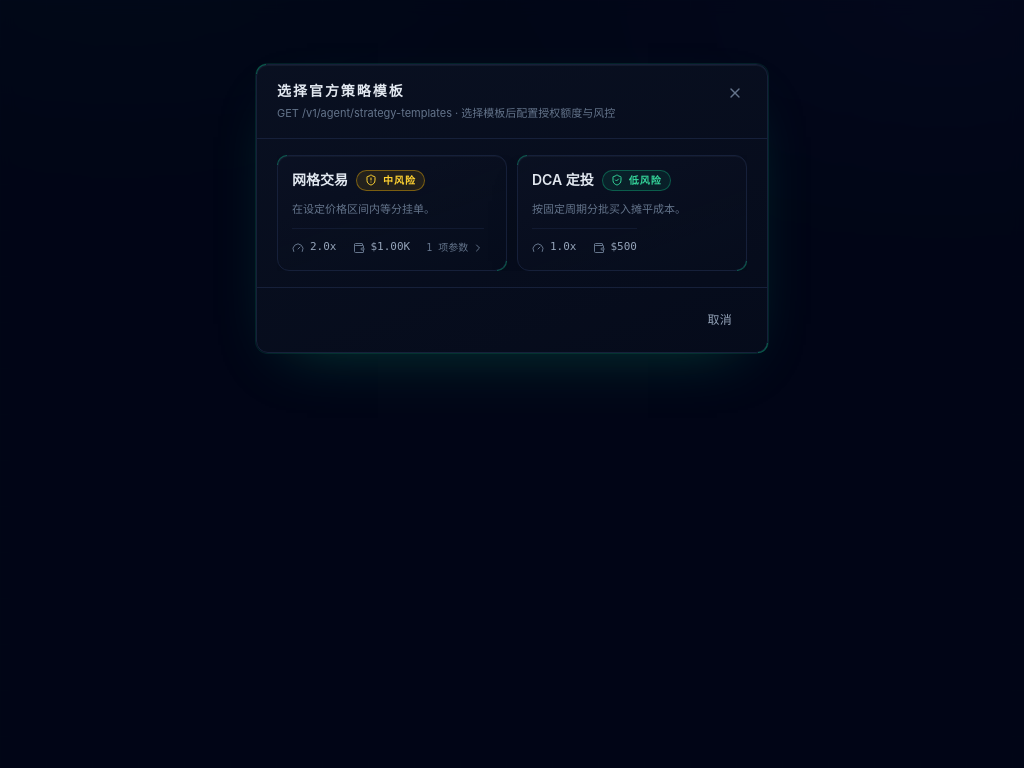
Test: LaunchTemplateModal 模板选择 › 可从配置表单返回重新选择
Click the button "网格交易 中风险 在设定价格区间内等分挂单。 2.0x $1.00K 1 项参数": (392, 213) [277,154,507,271]
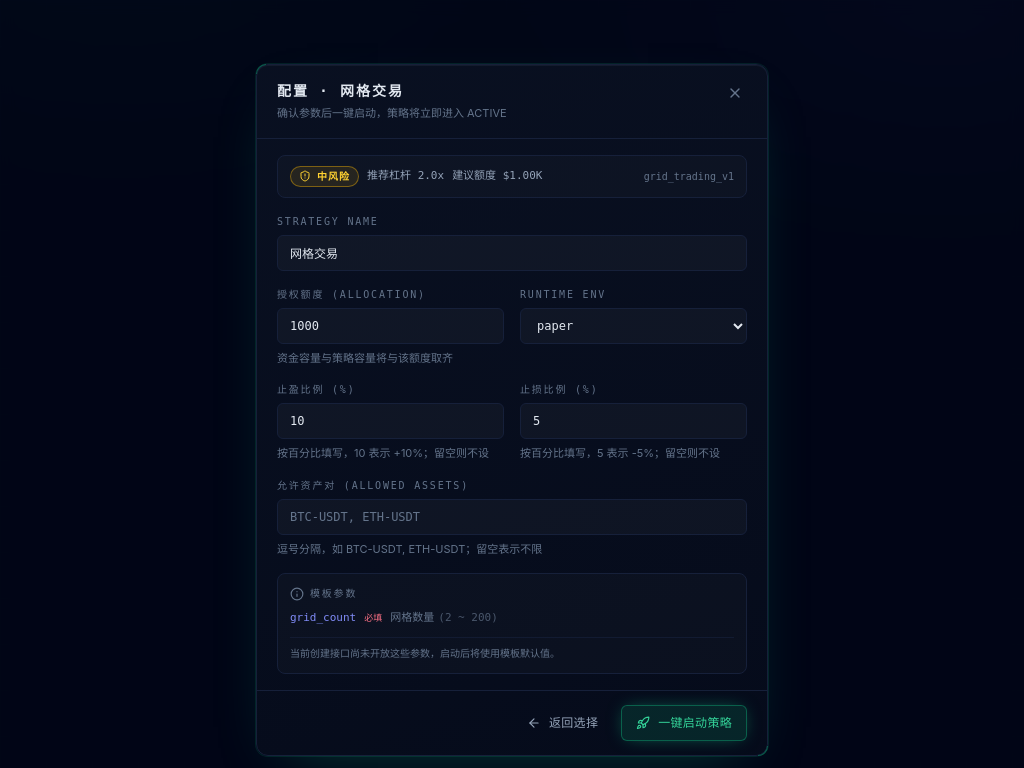
Click the button "返回选择": (563, 722) [512,704,613,740]
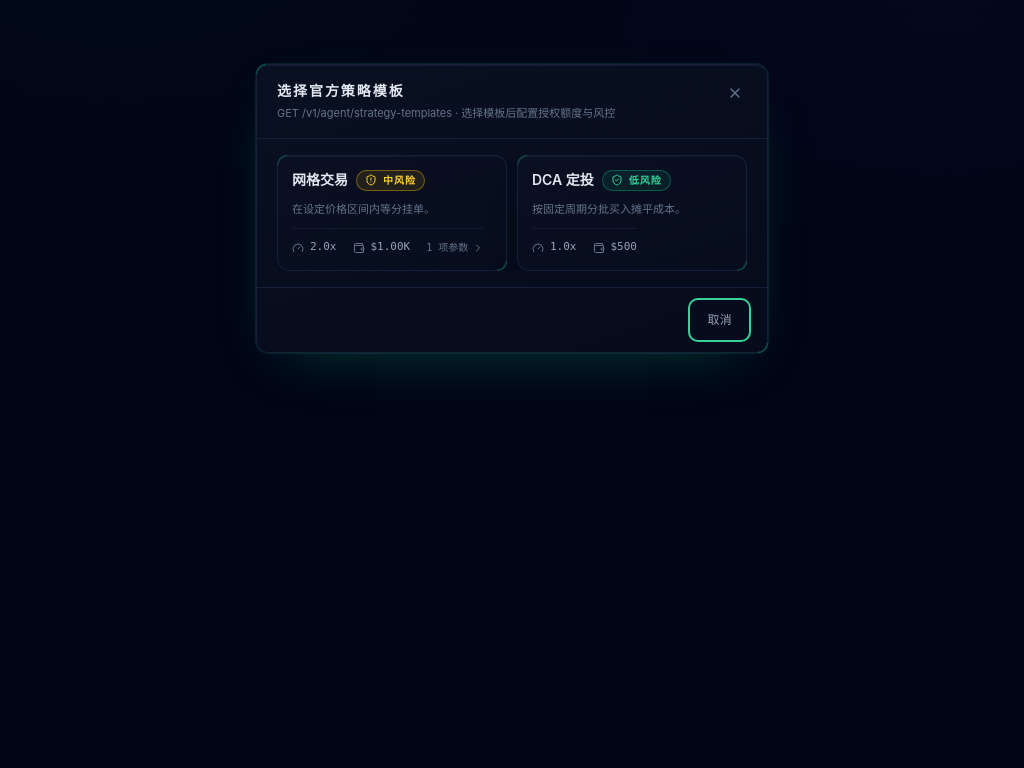
expect the button "DCA 定投 低风险 按固定周期分批买入摊平成本。 1.0x $500" is shown: met, box [517,154,747,271]
